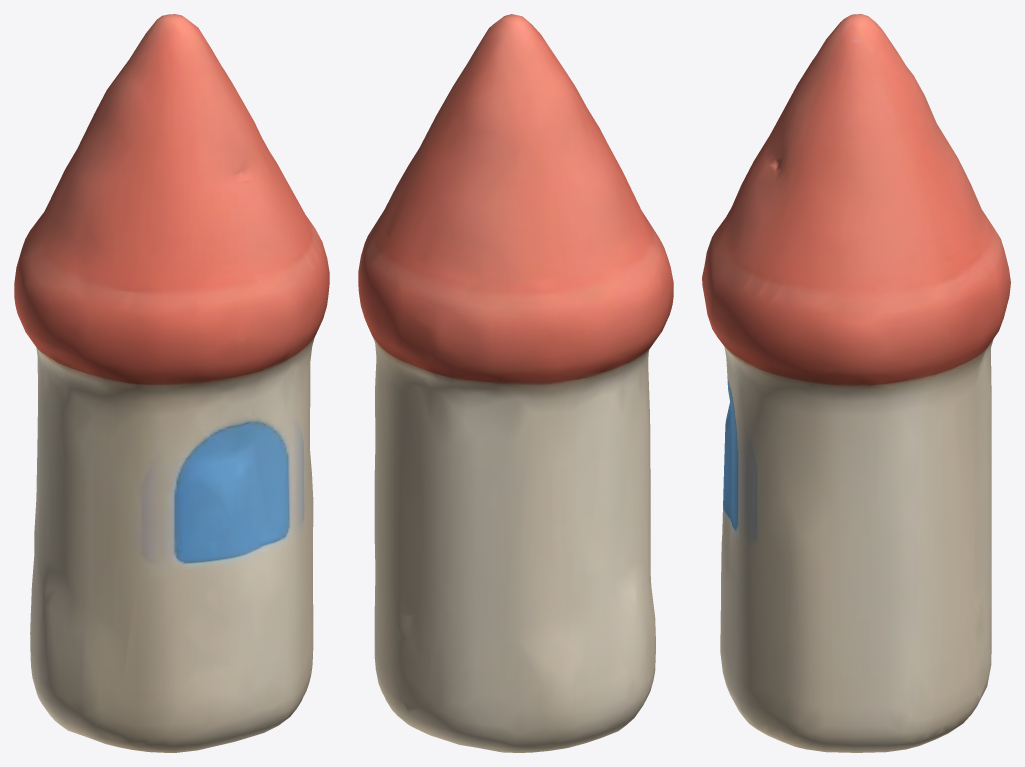
Rendered from tower.glb.
3 views of the same model, side by side, from view 1: azimuth 30°, elevation 25°; view 2: azimuth 150°, elevation 25°; view 3: azimuth 270°, elevation 25° (orthographic).
Visible parts, largest first — view 1: prop; view 2: prop; view 3: prop.
Boxes of the visible parts, left/top/right/bottom form: prop: left=14, top=14, right=329, bottom=752; prop: left=358, top=14, right=673, bottom=752; prop: left=702, top=14, right=1010, bottom=752.
Bounding box in the file's own units: 2.06 × 4.88 × 1.97.
Materials: 1 (1 with a texture image).
